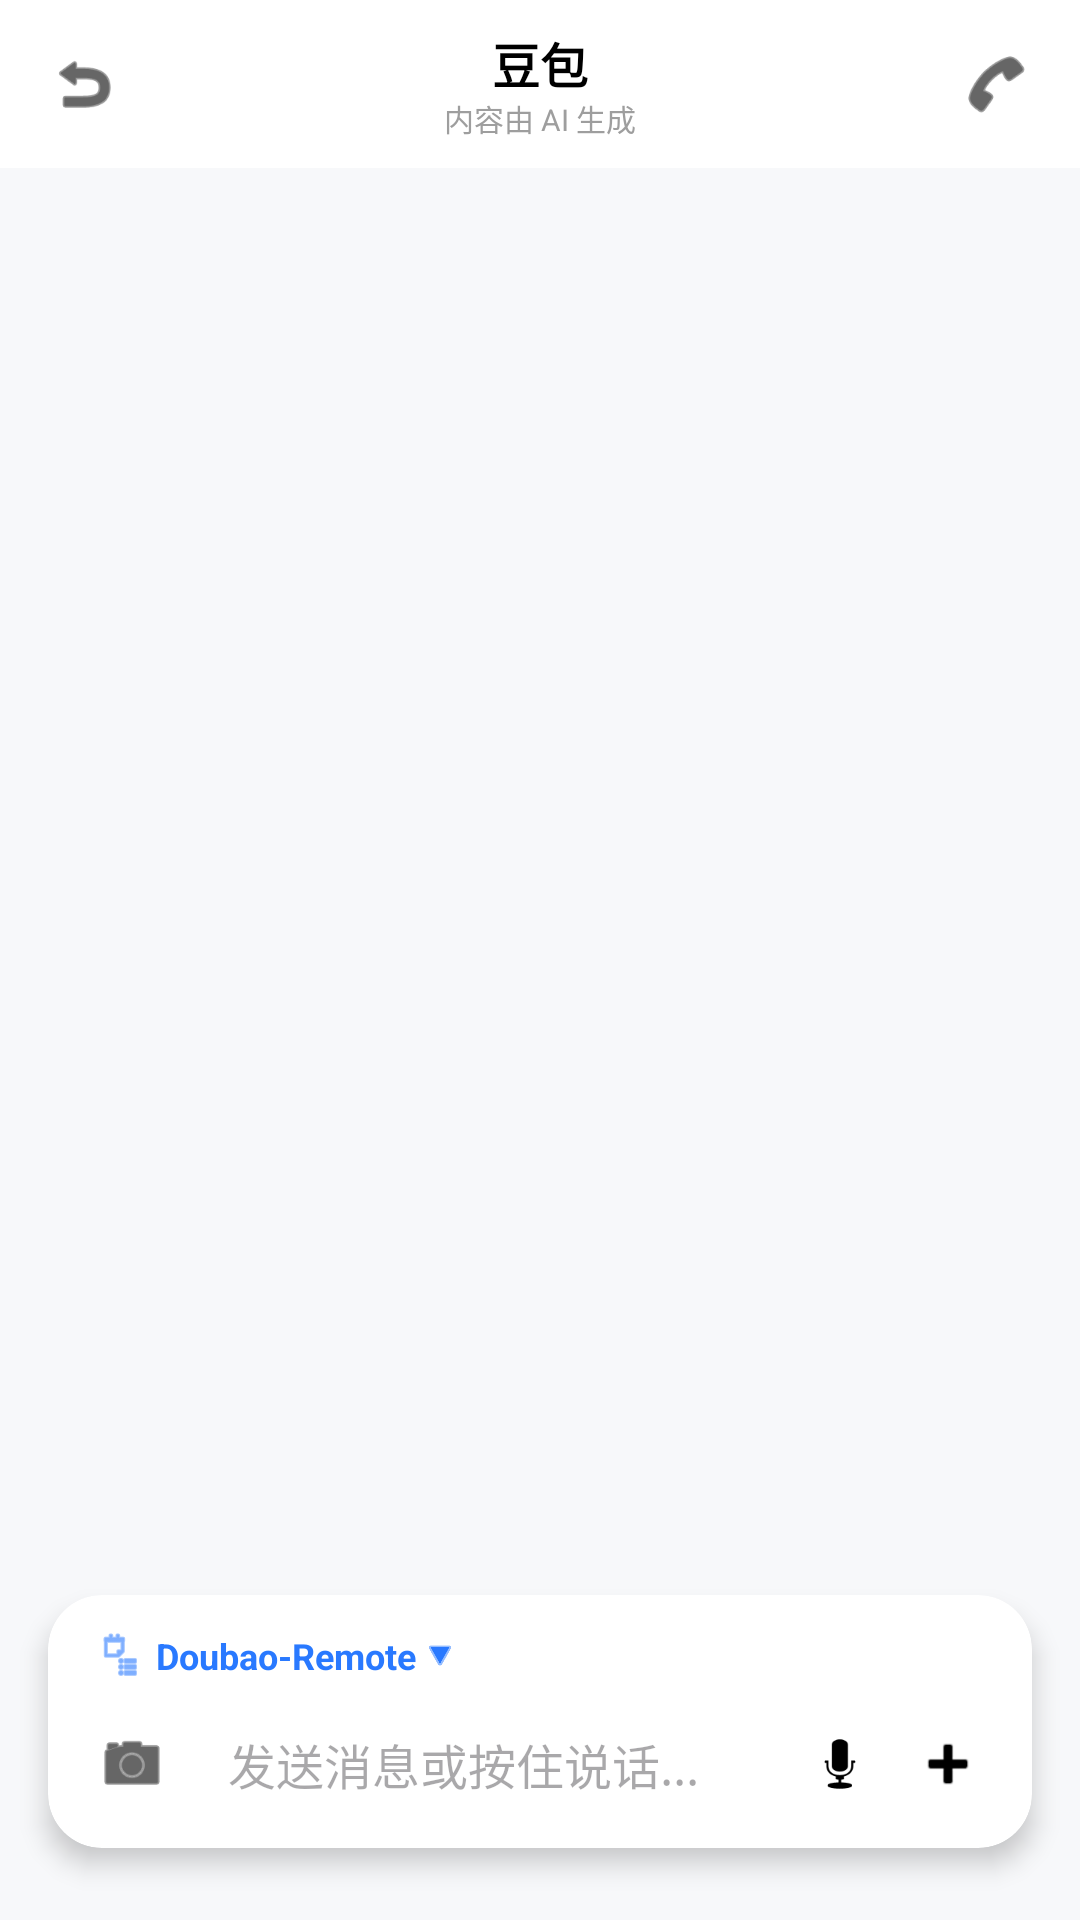

Icons on this 1080 x 1920 Android screen, each with its box as rect(x1, y1, x2, y2):
add: rect(927, 1744, 969, 1784)
agenda: rect(103, 1633, 137, 1676)
call: rect(968, 56, 1025, 113)
camera: rect(104, 1741, 160, 1785)
revert: rect(59, 61, 111, 108)
speak now: rect(824, 1739, 856, 1789)
